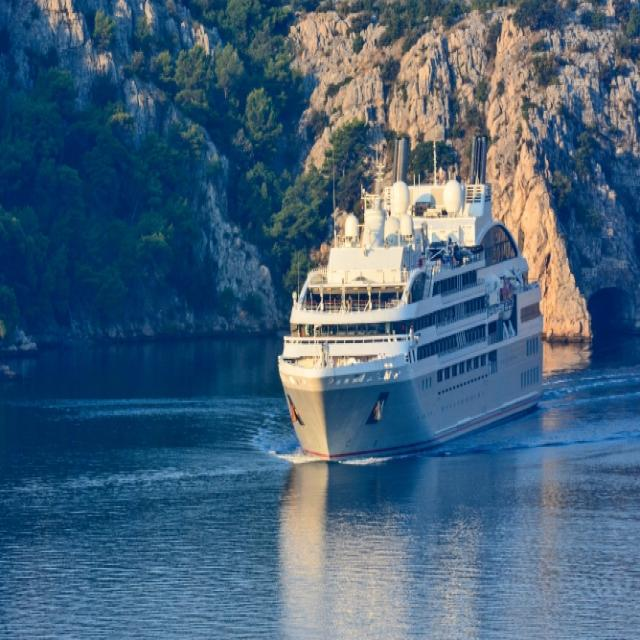cruises: (275, 130, 561, 470)
